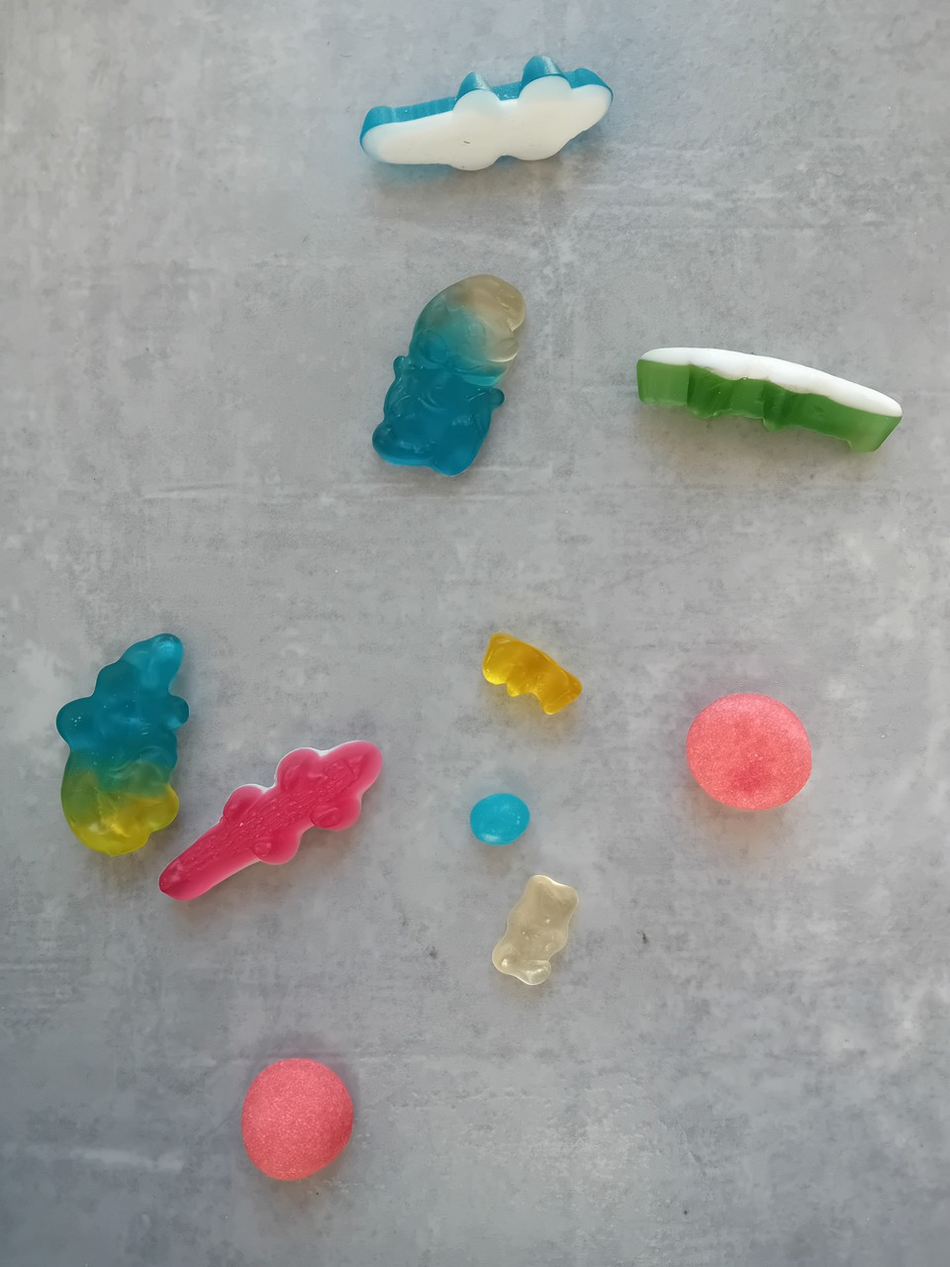crocodile_bleu: (349, 54, 615, 173)
crocodile_rouge: (155, 731, 392, 907)
crocodile_vert: (626, 333, 907, 461)
dragibus_bleu: (459, 788, 534, 849)
ourson_blanc: (488, 864, 583, 993)
ourson_jaune: (466, 626, 588, 722)
schtroumpf_bleu-blanc: (367, 272, 531, 484)
schtroumpf_bleu-jaune: (41, 619, 196, 862)
tagada_fraise: (684, 682, 819, 822), (225, 1051, 362, 1184)
